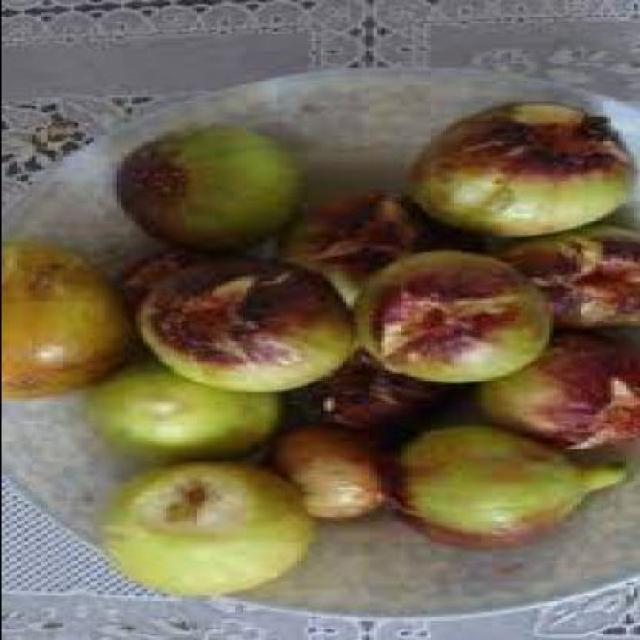BIODEGRADABLE: (398, 100, 624, 235), (130, 252, 348, 390), (390, 422, 624, 548), (91, 459, 307, 592), (348, 246, 552, 380), (268, 190, 472, 304), (111, 125, 295, 248), (1, 235, 134, 400), (76, 356, 276, 458), (467, 330, 636, 448), (482, 220, 636, 325), (284, 350, 444, 424), (265, 420, 383, 518), (115, 248, 234, 322)
